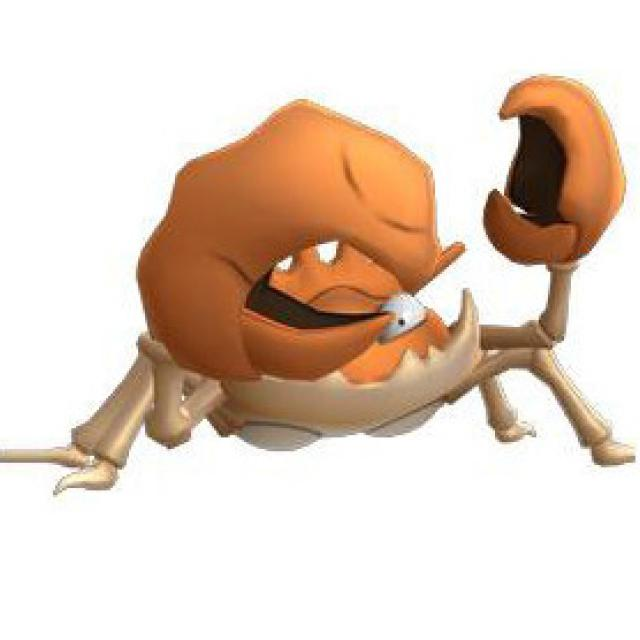Kingler: (128, 93, 640, 460)
